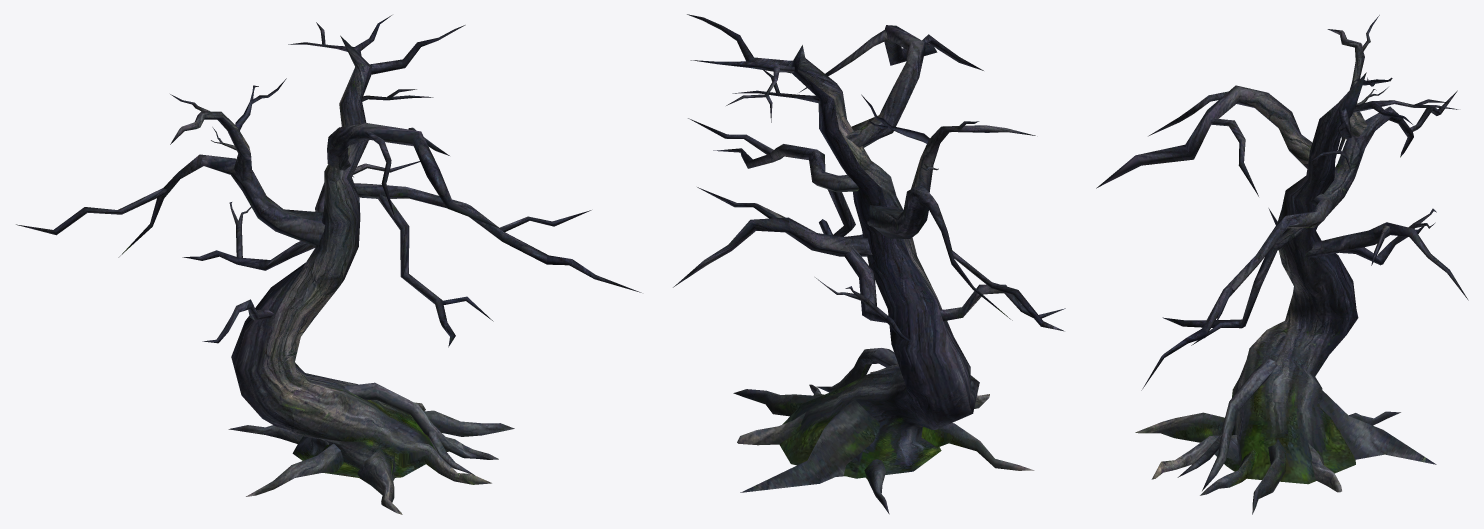
Rendered from Yland2_sg_03 Yland2.FBX.
The picture shows the model from 3 angles, left to right: view 1: azimuth 30°, elevation 25°; view 2: azimuth 150°, elevation 25°; view 3: azimuth 270°, elevation 25°; orthographic projection. The views are drawn at different scales.
Parts seen in each view (by area): view 1: Yland2_sg_03 Yland2; view 2: Yland2_sg_03 Yland2; view 3: Yland2_sg_03 Yland2.
Part boxes in pixels (<box>): Yland2_sg_03 Yland2: <box>16,15,641,514</box>; Yland2_sg_03 Yland2: <box>673,14,1065,514</box>; Yland2_sg_03 Yland2: <box>1096,15,1468,514</box>.
Size of the model in its own units: 51.73 by 40.48 by 35.2.
